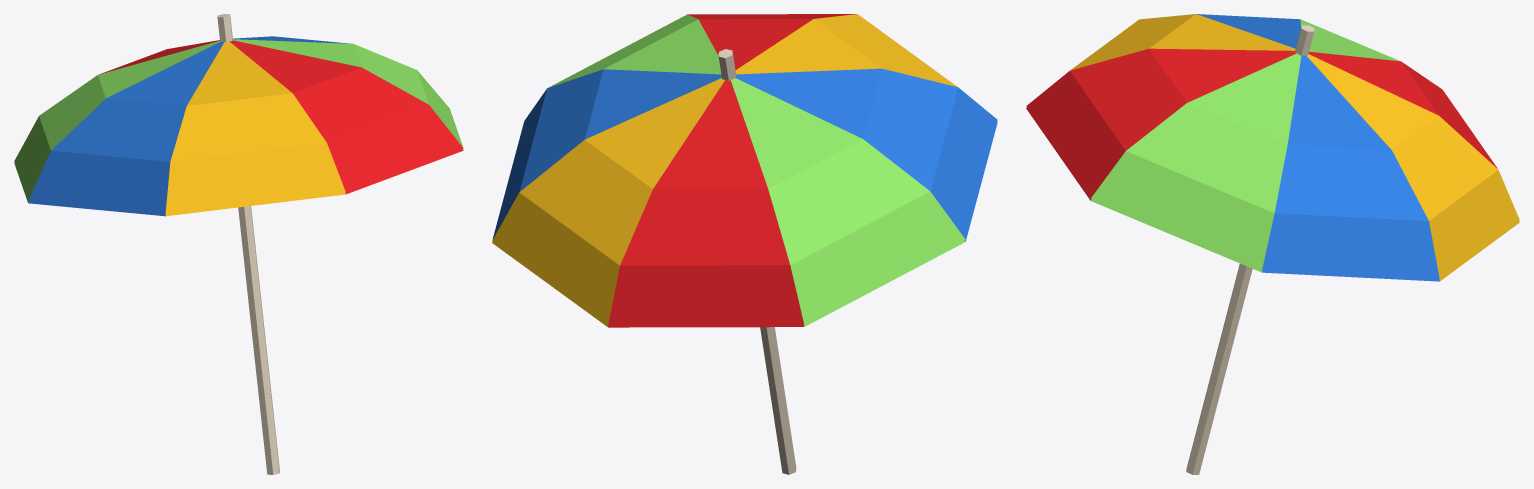
The model's file is Parasol_tex.fbx.
3 views of the same model, side by side, from view 1: azimuth 30°, elevation 25°; view 2: azimuth 150°, elevation 25°; view 3: azimuth 270°, elevation 25° (orthographic). The views are drawn at different scales.
Parts seen in each view (by area): view 1: Parasol_tex; view 2: Parasol_tex; view 3: Parasol_tex.
Part boxes in pixels (left/top/right/bottom): Parasol_tex: left=14, top=14, right=463, bottom=474; Parasol_tex: left=492, top=14, right=997, bottom=474; Parasol_tex: left=1026, top=14, right=1519, bottom=474.
Bounding box in the file's own units: 1.91 × 1.86 × 1.86.
